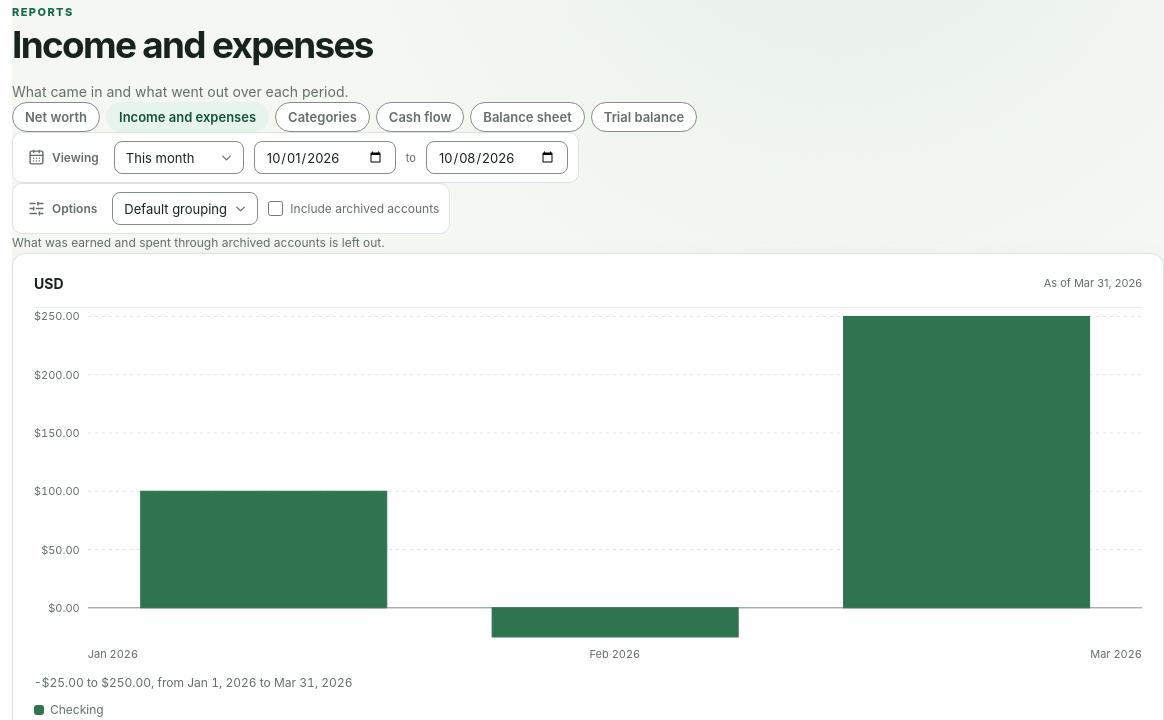
Test: the reports page › says a movement report counts archived accounts only when asked
This screenshot has width=1164, height=720.
Check: the text "is left out" is shown, box [12,235,385,250]
Click the checkbox labelled "Include archived accounts". click: (276, 209)
box: [268,201,283,216]
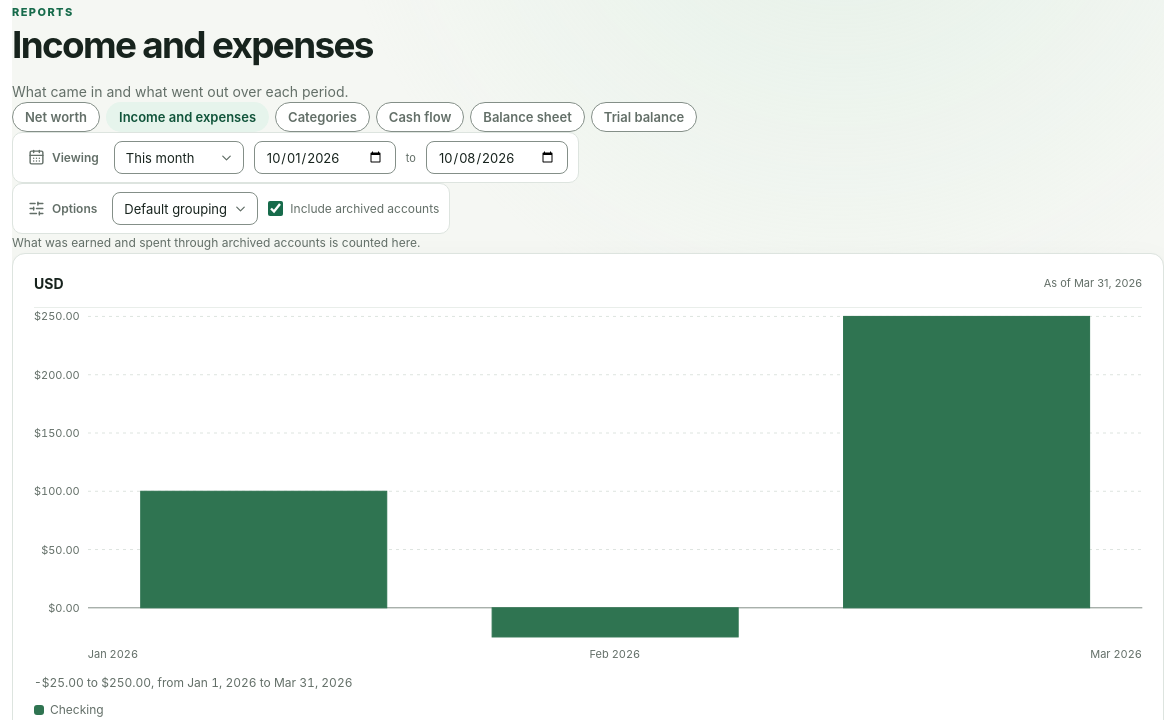
Check: the text "is counted here" is shown, box [12,235,420,250]
